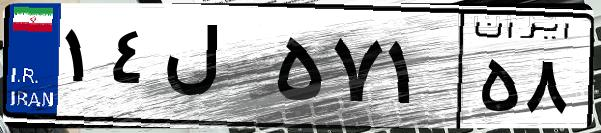1: (385, 28, 445, 110), (57, 26, 110, 100)
4: (110, 28, 158, 98)
5: (270, 28, 330, 110), (475, 38, 525, 113)
7: (330, 28, 385, 110)
8: (525, 38, 570, 115)
ل: (158, 20, 270, 120)
